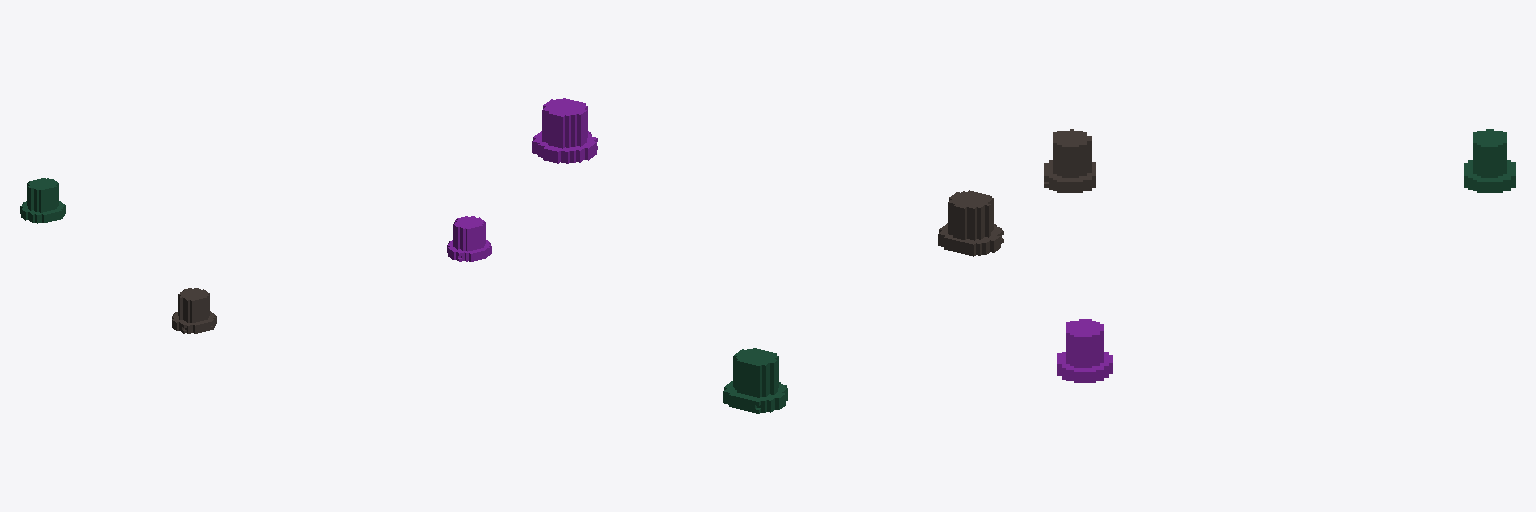
robot.urdf — physxnet_10022_strict:
<?xml version='1.0' encoding='utf-8'?>
<robot name="physxnet_10022_strict">
  <link name="l_world">
    <inertial>
      <origin xyz="0 0 0" rpy="0 0 0" />
      <mass value="0.0100000000" />
      <inertia ixx="0.0000001667" ixy="0.0" ixz="0.0" iyy="0.0000001667" iyz="0.0" izz="0.0000001667" />
    </inertial>
  </link><link name="l_0">
    <inertial>
      <origin xyz="0.0061695785 0.0142568676 0.0076732033" rpy="0 0 0" />
      <mass value="2807.4747750753" />
      <inertia ixx="570.5038361292" ixy="0.0" ixz="0.0" iyy="578.7968422273" iyz="0.0" izz="126.6241630075" />
    </inertial><visual>
      <origin xyz="0 0 0" rpy="0 0 0" />
      <geometry>
        <mesh filename="../rigid_visuals/part_000_visual.obj" scale="1 1 1" />
      </geometry><material name="mat_l_0">
        <color rgba="0.32548 0.48041 0.93131 1.00000" />
      </material>
    </visual><collision>
      <origin xyz="0 0 0" rpy="0 0 0" />
      <geometry>
        <mesh filename="part_000_collision.obj" scale="1 1 1" />
      </geometry>
    </collision>
  </link><joint name="joint_fixed_l_world_l_0" type="fixed">
    <parent link="l_world" />
    <child link="l_0" />
    <origin xyz="0 0 0" rpy="0 0 0" />
  </joint><link name="l_1">
    <inertial>
      <origin xyz="-0.2089287953 0.2102578374 -0.7304219401" rpy="0 0 0" />
      <mass value="0.0016880424" />
      <inertia ixx="0.0000005169" ixy="0.0" ixz="0.0" iyy="0.0000005925" iyz="0.0" izz="0.0000006781" />
    </inertial><visual>
      <origin xyz="0 0 0" rpy="0 0 0" />
      <geometry>
        <mesh filename="../rigid_visuals/part_001_visual.obj" scale="1 1 1" />
      </geometry><material name="mat_l_1">
        <color rgba="0.15447 0.35718 0.26453 1.00000" />
      </material>
    </visual><collision>
      <origin xyz="0 0 0" rpy="0 0 0" />
      <geometry>
        <mesh filename="part_001_collision.obj" scale="1 1 1" />
      </geometry>
    </collision>
  </link><joint name="joint_fixed_l_0_l_1" type="fixed">
    <parent link="l_0" />
    <child link="l_1" />
    <origin xyz="0 0 0" rpy="0 0 0" />
  </joint><link name="l_2">
    <inertial>
      <origin xyz="0.2223967970 0.2102650692 -0.7304219401" rpy="0 0 0" />
      <mass value="0.0016880424" />
      <inertia ixx="0.0000005169" ixy="0.0" ixz="0.0" iyy="0.0000005925" iyz="0.0" izz="0.0000006781" />
    </inertial><visual>
      <origin xyz="0 0 0" rpy="0 0 0" />
      <geometry>
        <mesh filename="../rigid_visuals/part_002_visual.obj" scale="1 1 1" />
      </geometry><material name="mat_l_2">
        <color rgba="0.29417 0.82410 0.87988 1.00000" />
      </material>
    </visual><collision>
      <origin xyz="0 0 0" rpy="0 0 0" />
      <geometry>
        <mesh filename="part_002_collision.obj" scale="1 1 1" />
      </geometry>
    </collision>
  </link><joint name="joint_fixed_l_1_l_2" type="fixed">
    <parent link="l_1" />
    <child link="l_2" />
    <origin xyz="0 0 0" rpy="0 0 0" />
  </joint><link name="l_3">
    <inertial>
      <origin xyz="0.2105567513 -0.1685645649 -0.7304219401" rpy="0 0 0" />
      <mass value="0.0016880717" />
      <inertia ixx="0.0000005169" ixy="0.0" ixz="0.0" iyy="0.0000005925" iyz="0.0" izz="0.0000006781" />
    </inertial><visual>
      <origin xyz="0 0 0" rpy="0 0 0" />
      <geometry>
        <mesh filename="../rigid_visuals/part_003_visual.obj" scale="1 1 1" />
      </geometry><material name="mat_l_3">
        <color rgba="0.55944 0.19916 0.68114 1.00000" />
      </material>
    </visual><collision>
      <origin xyz="0 0 0" rpy="0 0 0" />
      <geometry>
        <mesh filename="part_003_collision.obj" scale="1 1 1" />
      </geometry>
    </collision>
  </link><joint name="joint_fixed_l_2_l_3" type="fixed">
    <parent link="l_2" />
    <child link="l_3" />
    <origin xyz="0 0 0" rpy="0 0 0" />
  </joint><link name="l_4">
    <inertial>
      <origin xyz="-0.2089207599 -0.1813001471 -0.7304219401" rpy="0 0 0" />
      <mass value="0.0016880424" />
      <inertia ixx="0.0000005169" ixy="0.0" ixz="0.0" iyy="0.0000005925" iyz="0.0" izz="0.0000006781" />
    </inertial><visual>
      <origin xyz="0 0 0" rpy="0 0 0" />
      <geometry>
        <mesh filename="../rigid_visuals/part_004_visual.obj" scale="1 1 1" />
      </geometry><material name="mat_l_4">
        <color rgba="0.31347 0.28085 0.26098 1.00000" />
      </material>
    </visual><collision>
      <origin xyz="0 0 0" rpy="0 0 0" />
      <geometry>
        <mesh filename="part_004_collision.obj" scale="1 1 1" />
      </geometry>
    </collision>
  </link><joint name="joint_fixed_l_3_l_4" type="fixed">
    <parent link="l_3" />
    <child link="l_4" />
    <origin xyz="0 0 0" rpy="0 0 0" />
  </joint>
</robot>

--- Render facts (derived) ---
Views: 3 orthographic renders of the robot side by side, from view 1: azimuth 30°, elevation 25°; view 2: azimuth 150°, elevation 25°; view 3: azimuth 270°, elevation 25°.
Robot: physxnet_10022_strict — 6 links, 5 joints (5 fixed); root link l_world; default pose: every joint at zero.
Links seen in each view (by area): view 1: l_3, l_4, l_1; view 2: l_3, l_4, l_1; view 3: l_3, l_4, l_1.
Link boxes in pixels (bbox=[...]): l_3: bbox=[447, 216, 491, 261]; l_4: bbox=[172, 288, 216, 333]; l_1: bbox=[20, 178, 65, 223]; l_3: bbox=[532, 98, 597, 163]; l_4: bbox=[938, 190, 1003, 256]; l_1: bbox=[723, 348, 787, 413]; l_3: bbox=[1057, 319, 1112, 382]; l_4: bbox=[1044, 129, 1095, 192]; l_1: bbox=[1464, 129, 1515, 192].
Size in the robot's own frame: 0.476 by 0.44 by 0.044 metres.
Meshes: 5 distinct files referenced, 3 mesh visuals loaded (3 OBJ); not drawn: 2 (reference not matched to a file when rendering).
